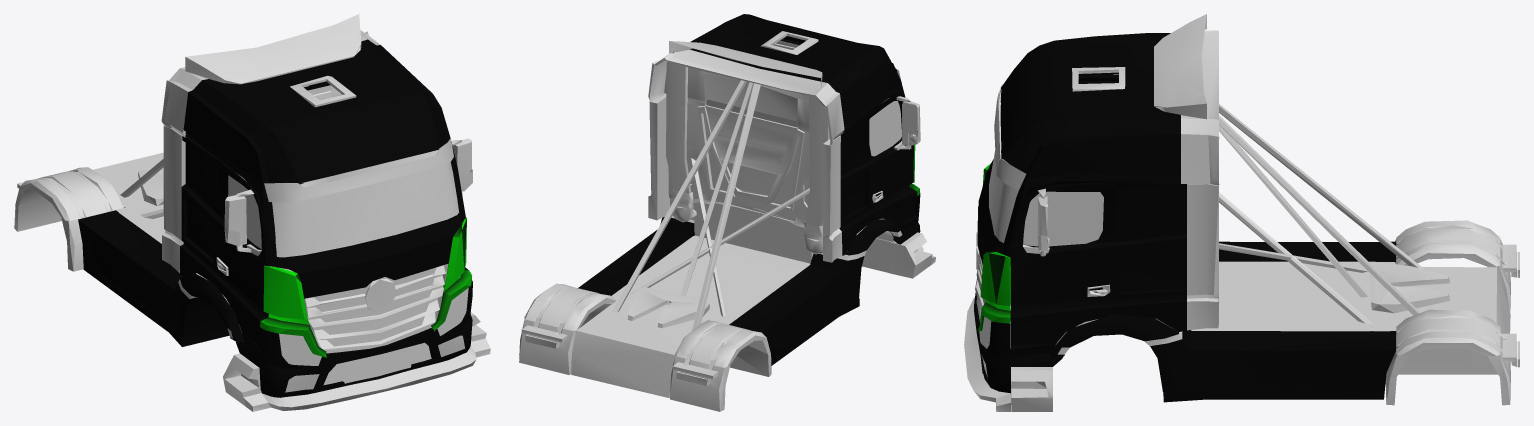
File: Benz_Axor_Baked.fbx
The picture shows the model from 3 angles, left to right: view 1: azimuth 30°, elevation 25°; view 2: azimuth 150°, elevation 25°; view 3: azimuth 270°, elevation 25°; orthographic projection. The views are drawn at different scales.
Parts seen in each view (by area): view 1: Benz_Axor_Baked1; view 2: Benz_Axor_Baked1; view 3: Benz_Axor_Baked1.
Part boxes in pixels (x1=…): Benz_Axor_Baked1: x1=14, y1=14, x2=490, y2=411; Benz_Axor_Baked1: x1=519, y1=14, x2=935, y2=411; Benz_Axor_Baked1: x1=964, y1=14, x2=1519, y2=411.
Size of the model in its own units: 335 by 358 by 616.
